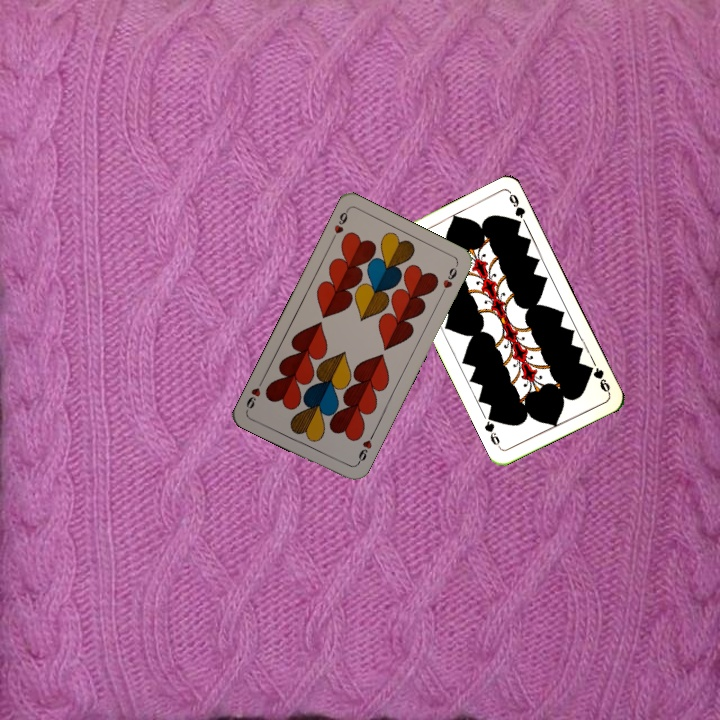G9: (583, 362, 613, 396)
H9: (352, 430, 376, 468), (328, 206, 351, 244)
